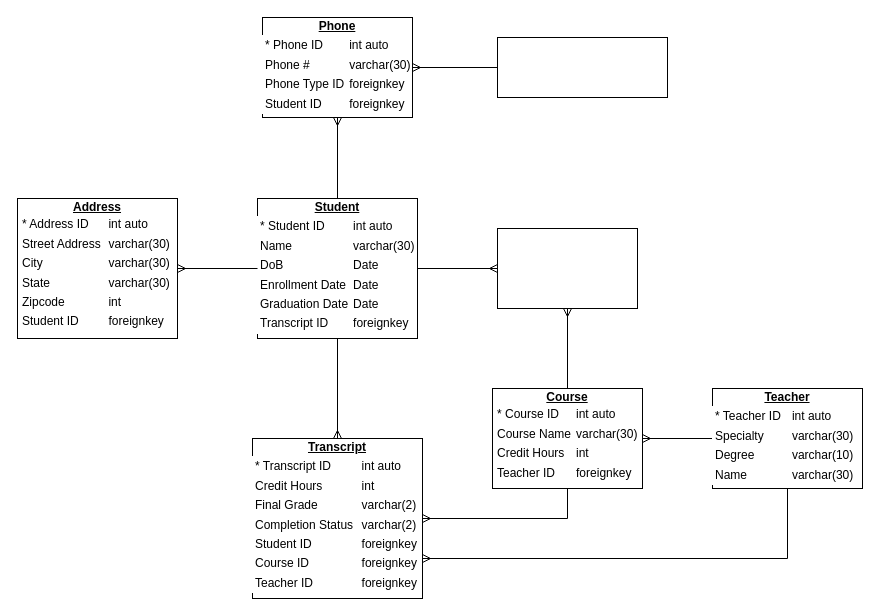
Some shapes in this 880 by 616 pixel diagram are drawn without their labels. The shapes that lost their labels are listed below. From the top down, each one's box as (x1, y1, x2, y2) in pixels, then its label:
(496, 36, 668, 98): Phone Type * Phone Type ID int auto Phone Type Name varchar(10)
(496, 228, 638, 308): Roster * Roster ID int auto Course ID foreignkey Student ID foreignkey
